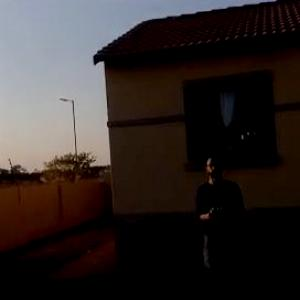follow: (176, 144, 250, 299)
